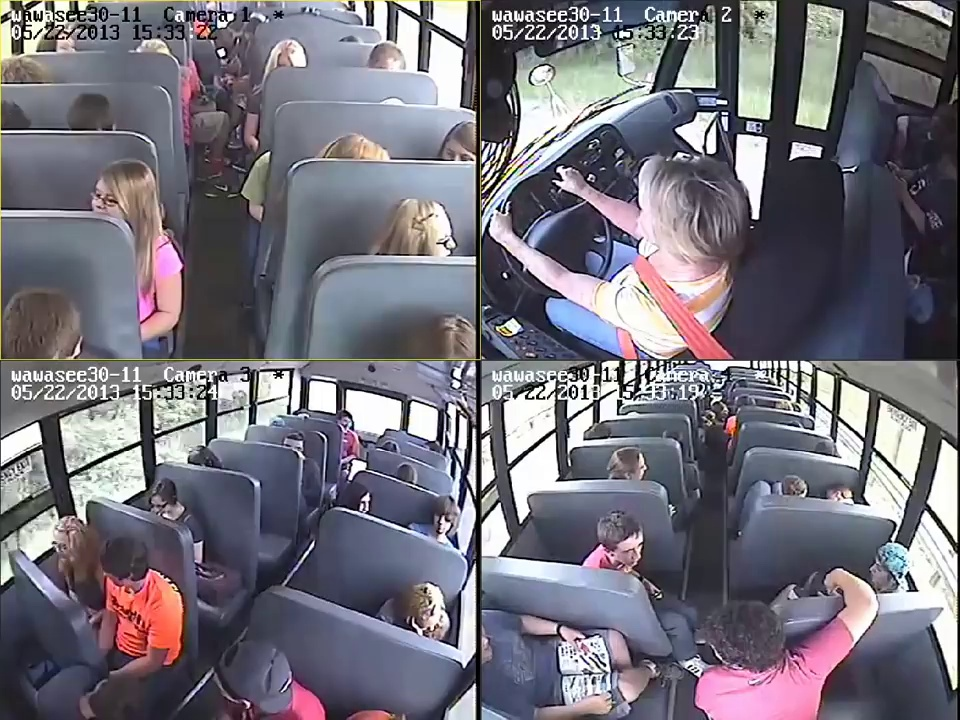face: (416, 214, 456, 256), (90, 176, 132, 214), (611, 538, 644, 571), (866, 555, 897, 586), (440, 140, 475, 165)
